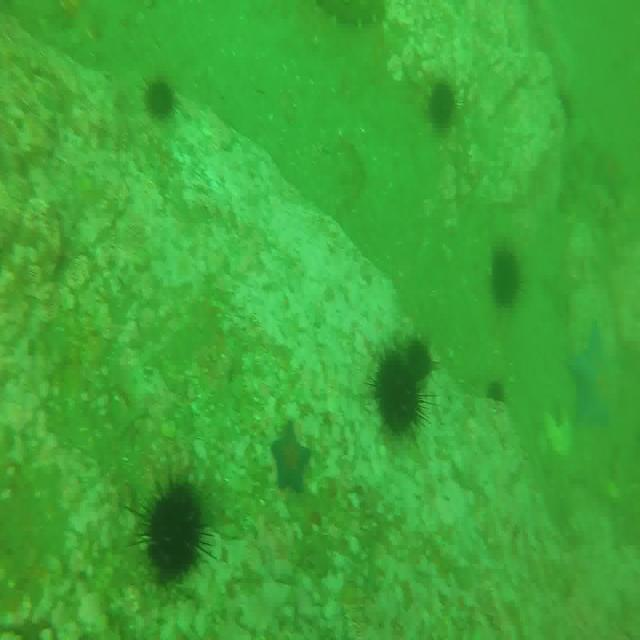echinus: (139, 478, 212, 583), (366, 348, 432, 447), (487, 246, 525, 312), (140, 70, 178, 124), (426, 75, 456, 132), (406, 335, 437, 387), (483, 376, 510, 418)
holothurian: (309, 0, 389, 31)
starfish: (570, 320, 621, 430), (272, 424, 311, 492)
